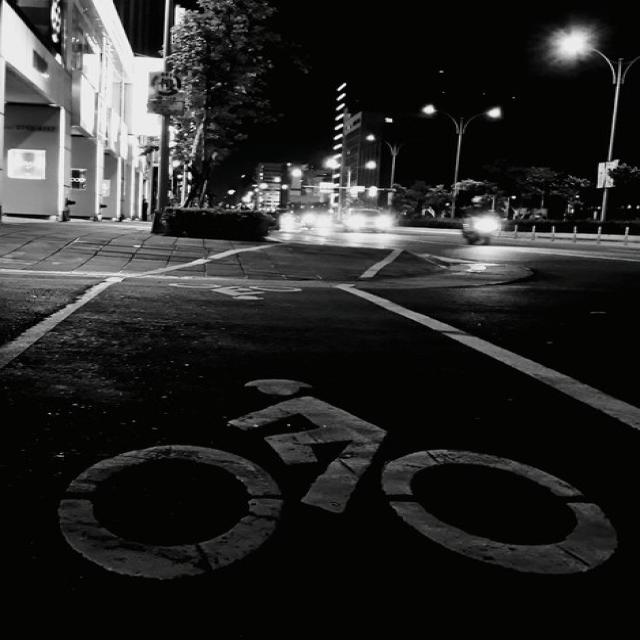streetlight: (555, 31, 598, 69), (237, 188, 278, 212), (412, 97, 444, 119), (478, 105, 505, 127), (258, 176, 292, 191), (354, 128, 382, 146), (322, 155, 343, 169), (286, 168, 303, 182), (365, 158, 377, 174)
